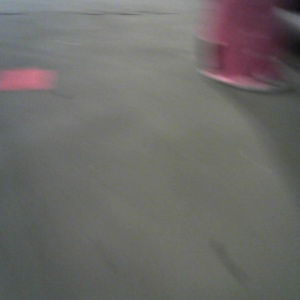Right: (204, 1, 288, 91)
